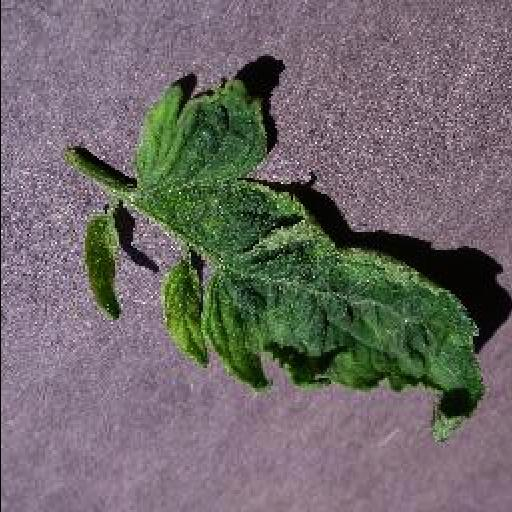Mosaic Virus: (82, 76, 486, 446)
